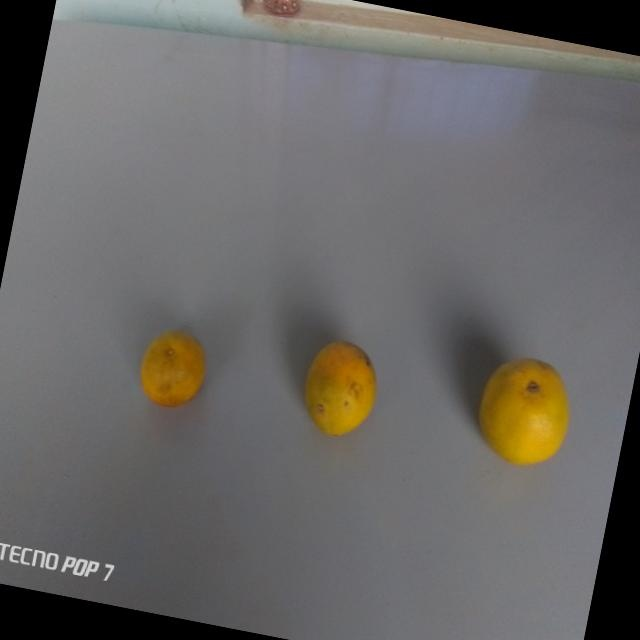agrume: (464, 338, 585, 476), (287, 330, 394, 450), (131, 318, 222, 418)
